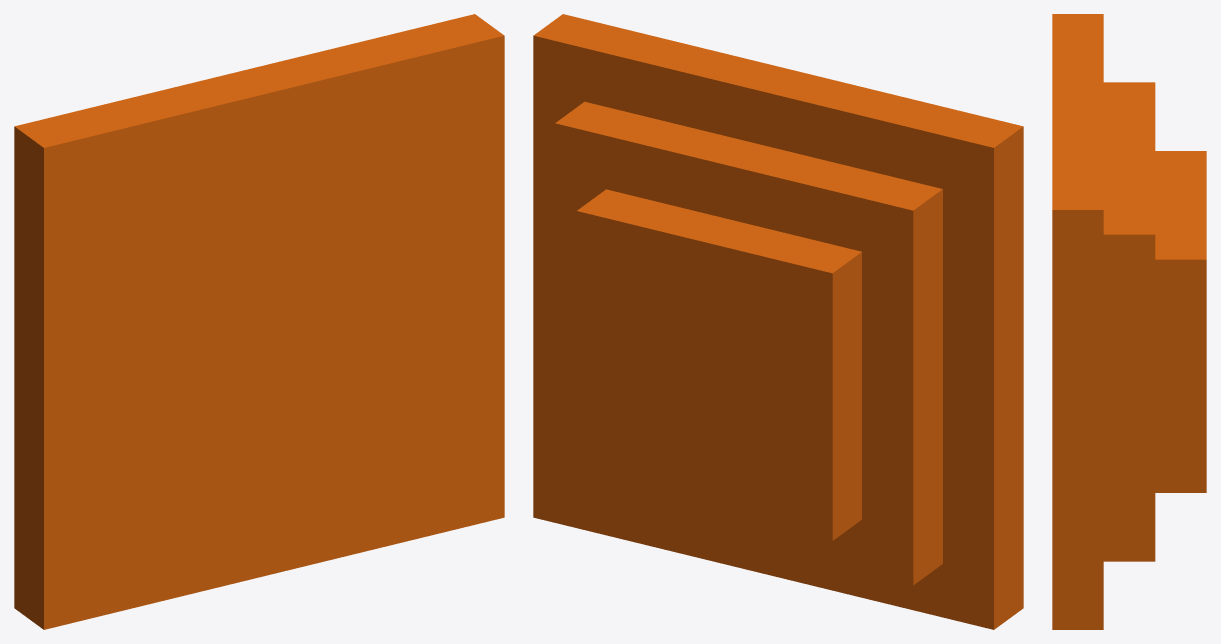
The model's file is goal2.fbx.
3 renders of one model, left to right at view 1: azimuth 30°, elevation 25°; view 2: azimuth 150°, elevation 25°; view 3: azimuth 270°, elevation 25°, orthographic. The views are drawn at different scales.
Parts seen in each view (by area): view 1: goal; view 2: goal; view 3: goal.
Boxes of the visible parts, x1=… form: goal: x1=14, y1=14, x2=504, y2=629; goal: x1=533, y1=14, x2=1023, y2=629; goal: x1=1052, y1=14, x2=1206, y2=629.
Bounding box in the file's own units: 180 × 180 × 60.
